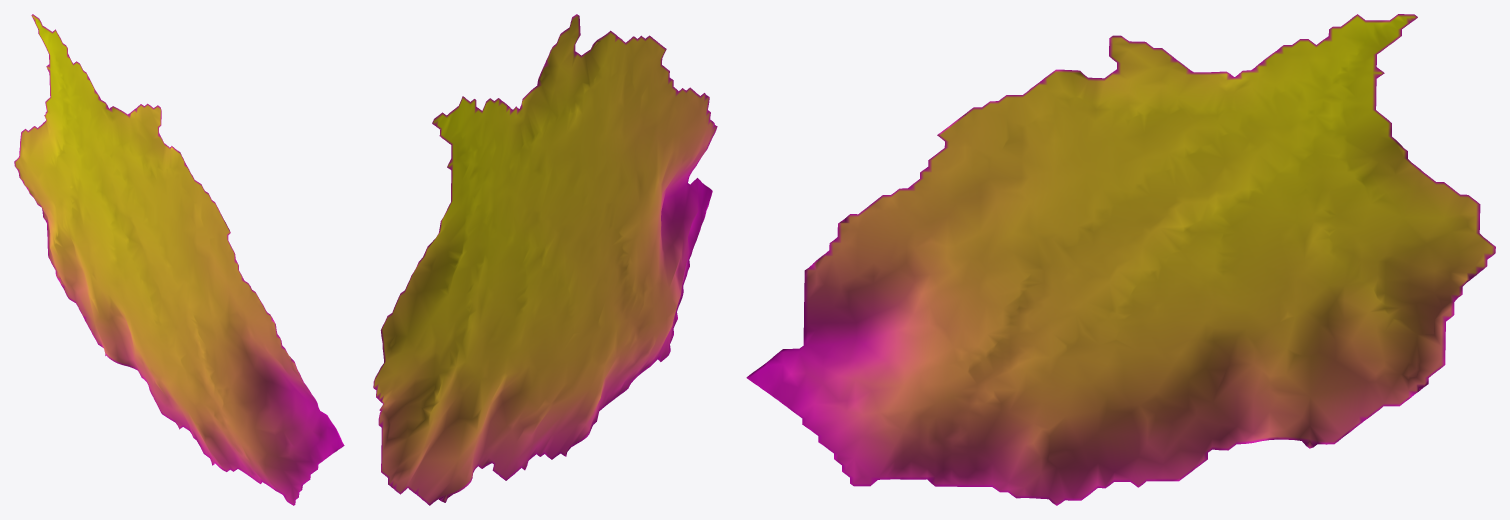
File: salas_outputs_color_ramp.gltf
3 renders of one model, left to right at view 1: azimuth 30°, elevation 25°; view 2: azimuth 150°, elevation 25°; view 3: azimuth 270°, elevation 25°, orthographic. The views are drawn at different scales.
Bounding box in the file's own units: 302 × 1951 × 2842.
Materials: 1 (1 with a texture image).
